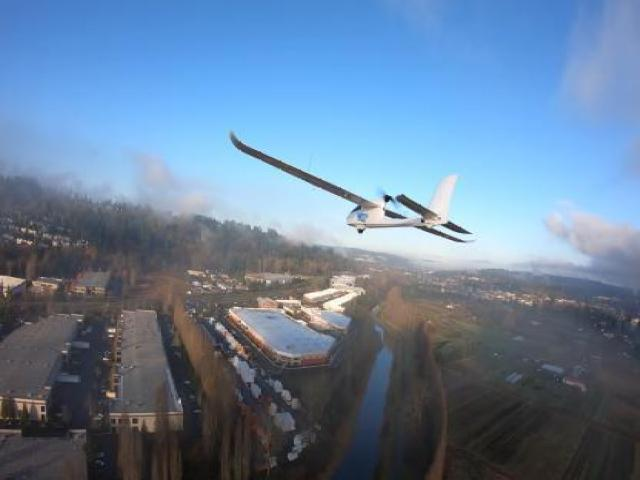uav: (222, 123, 488, 260)
